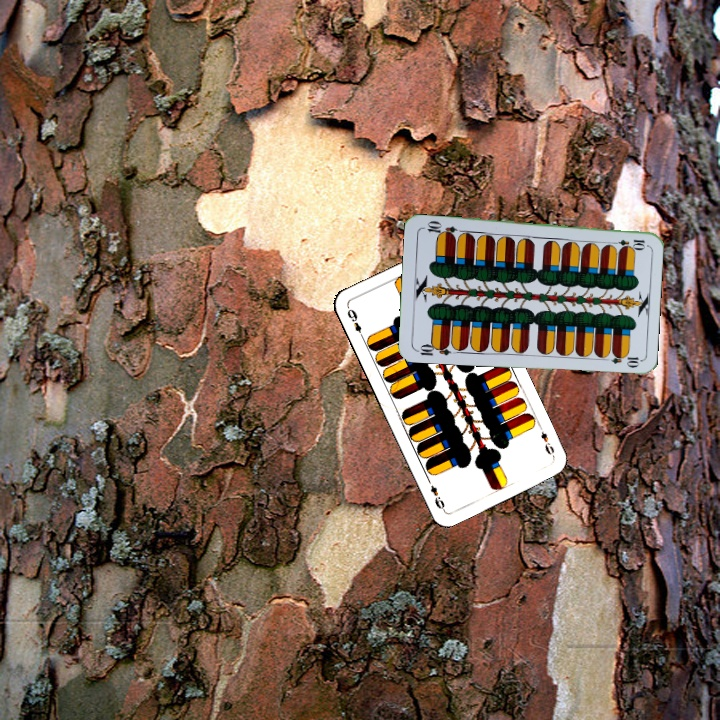E10: (412, 339, 453, 358), (607, 235, 647, 250)
E9: (343, 305, 366, 342), (535, 422, 557, 460)
